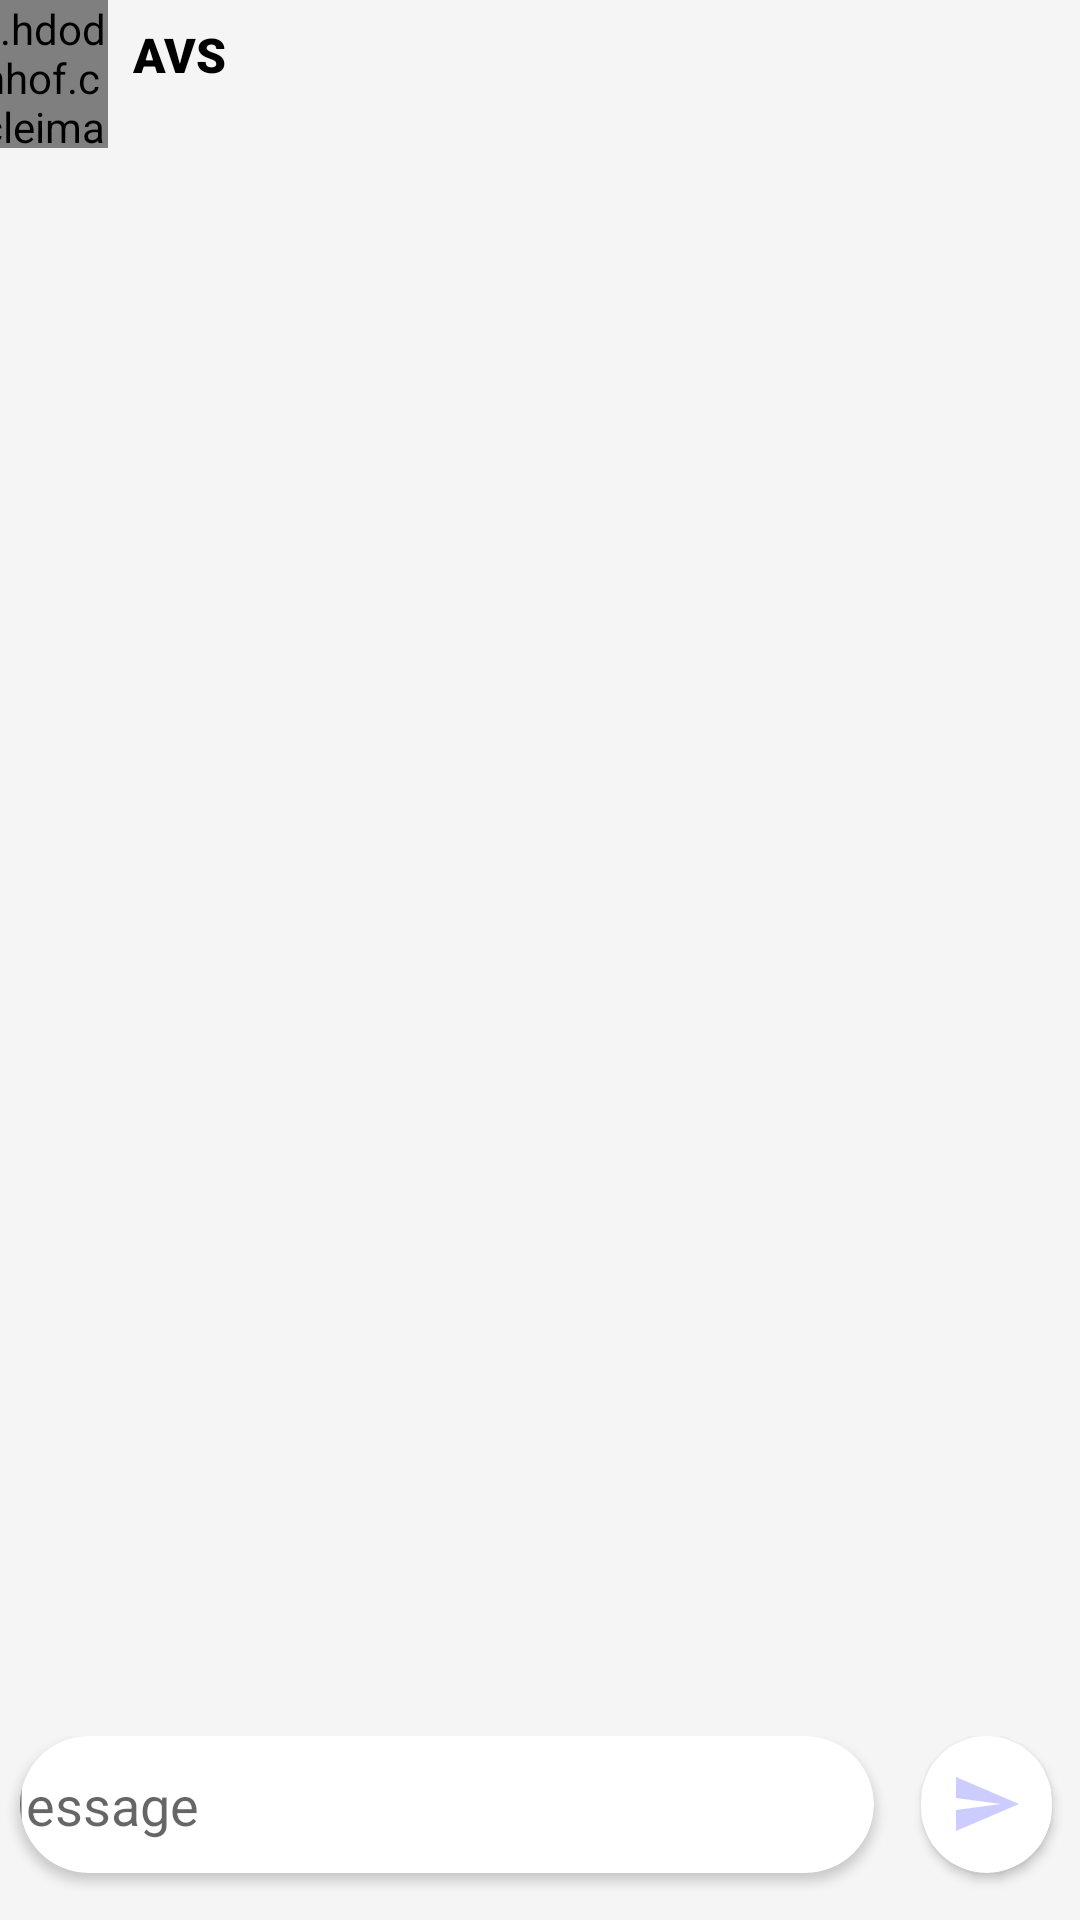

Screen size 1080px×1920px. Icon name, then its center in pixels as (x,y):
send: (987,1804)
